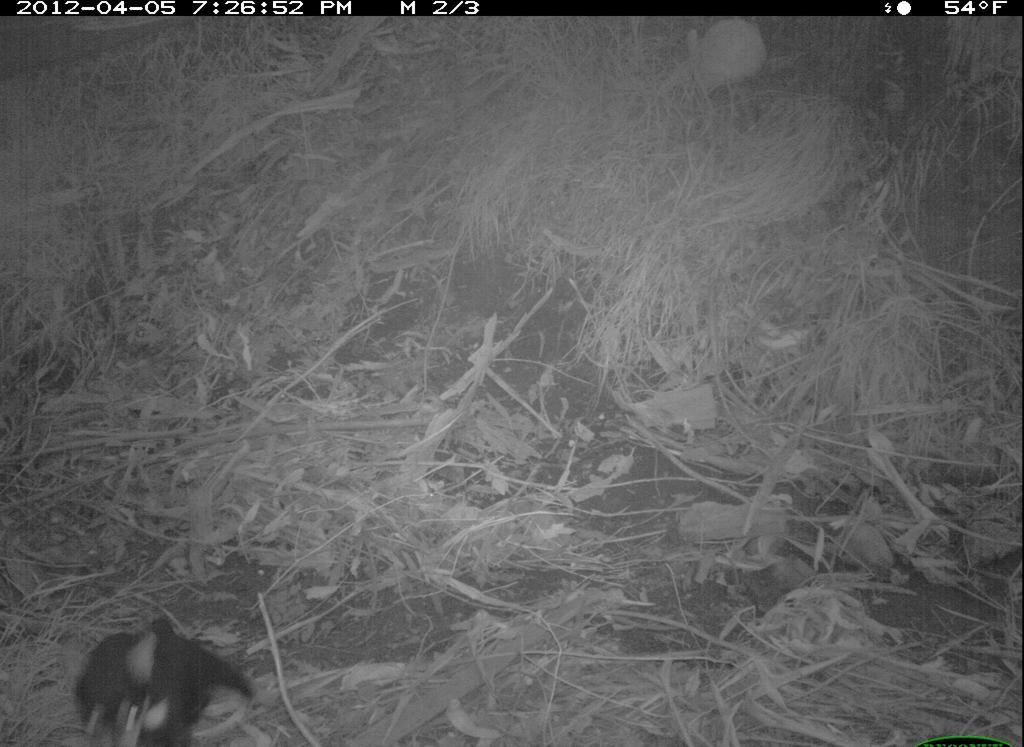dog: (77, 601, 285, 735)
